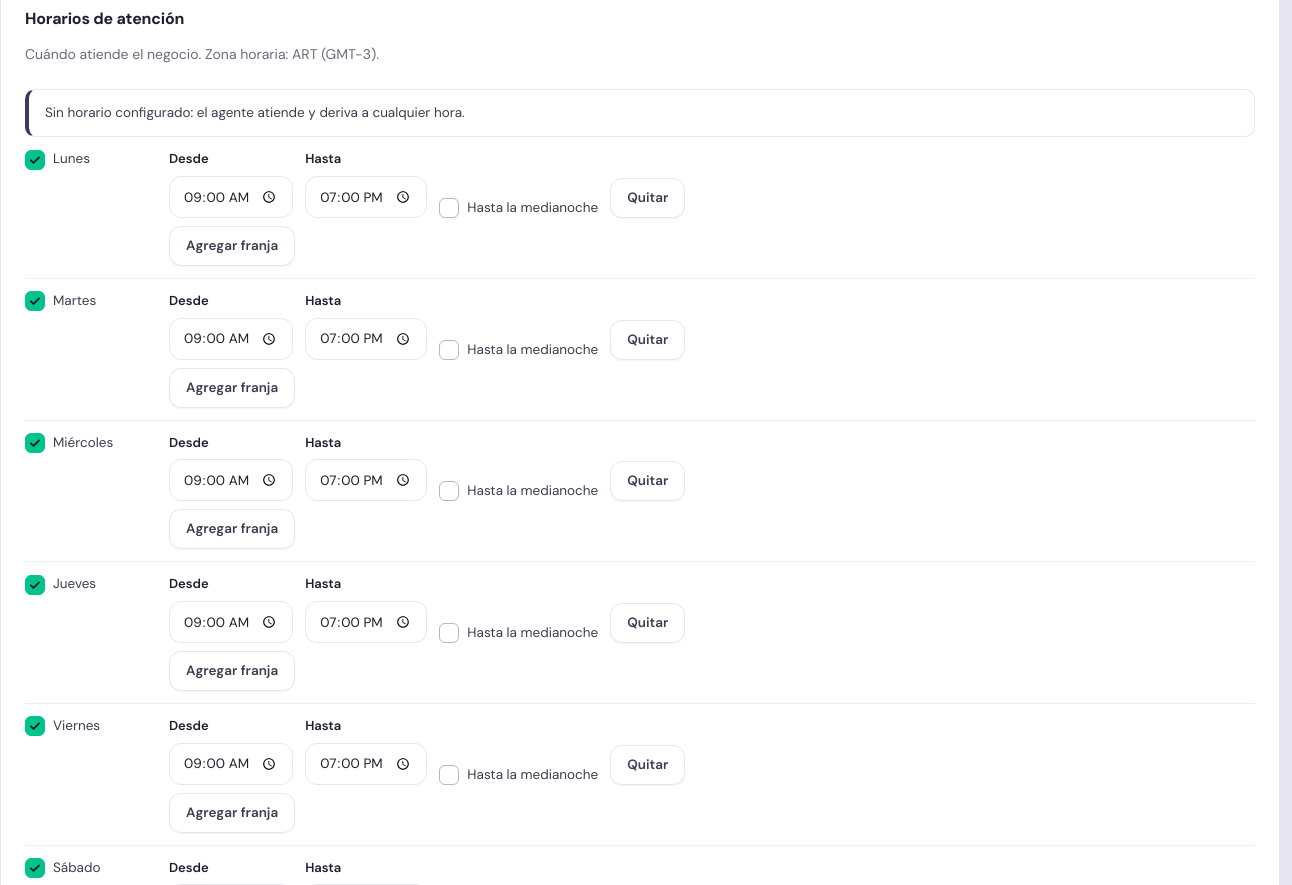
Test: franjas › una franja con el cierre antes de la apertura muestra el error y deshabilita «Guardar»
Replace the text in the time field named "Hasta (Martes, franja 1)" with "08:00": [366, 339] box [305,318,427,360]
(page scrolled)
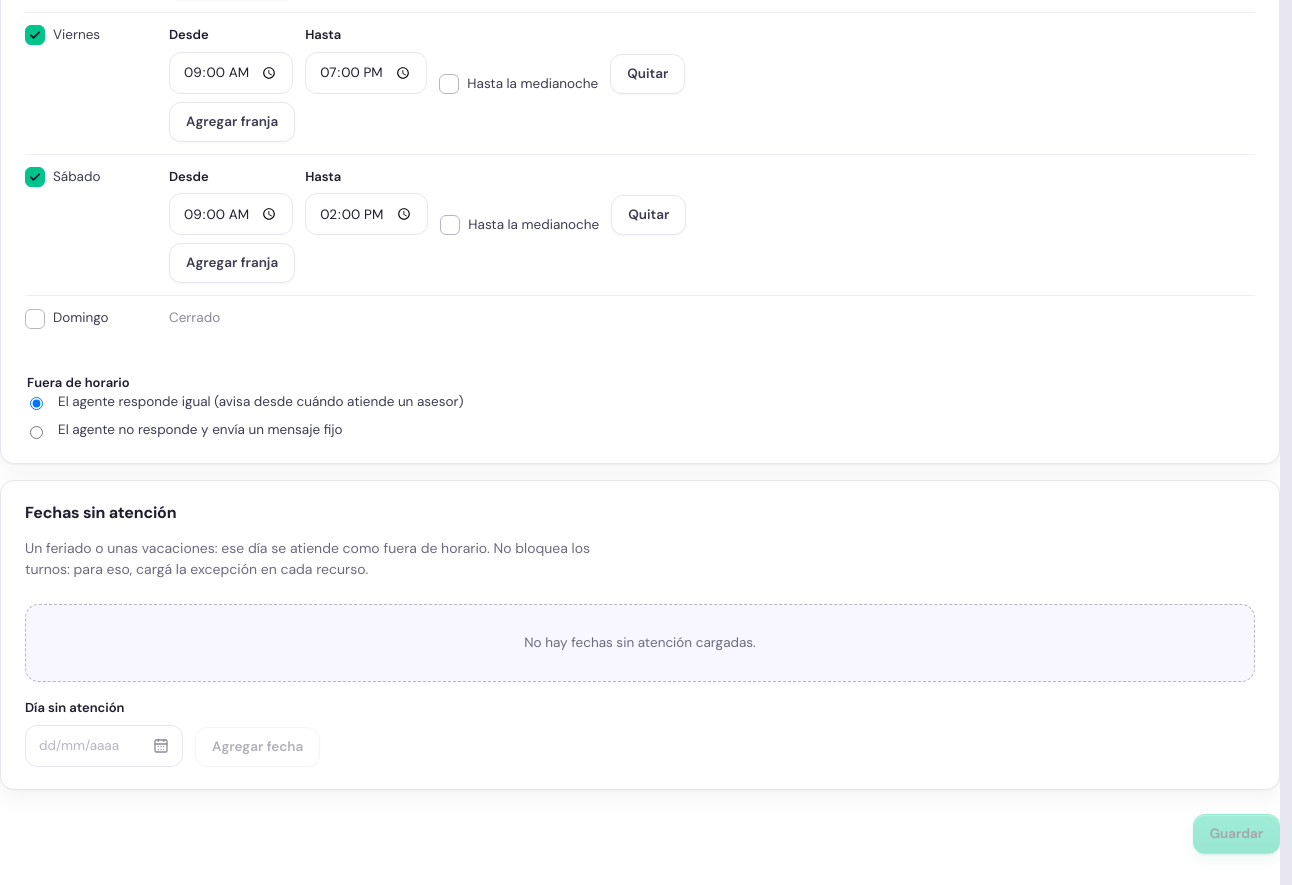
Result: the button "Guardar" is disabled at [1193,814,1280,854]
